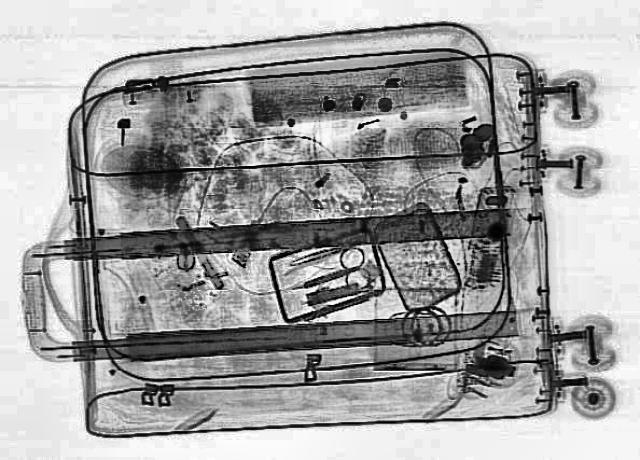Scissors: (276, 244, 384, 306)
